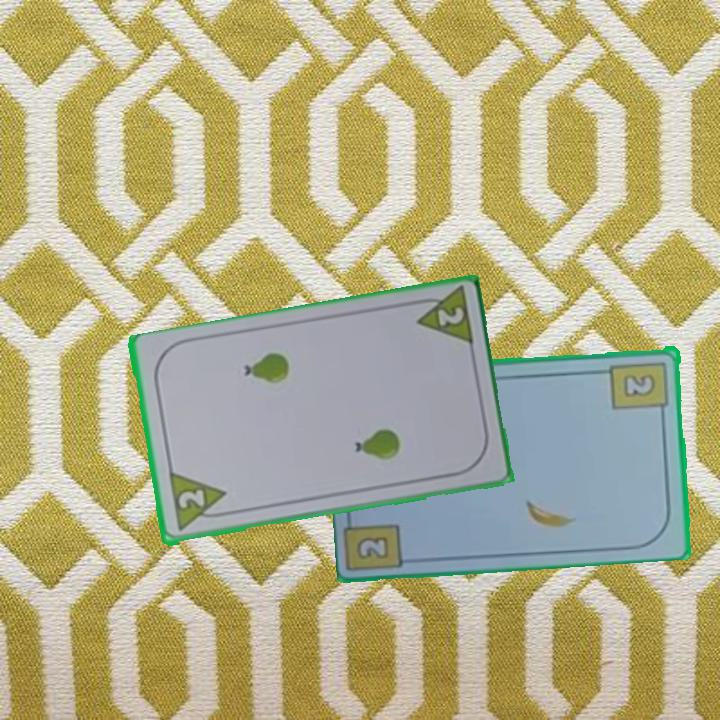2b: (608, 358, 672, 419), (353, 532, 393, 563)
2p: (408, 285, 477, 350), (174, 486, 207, 512)
